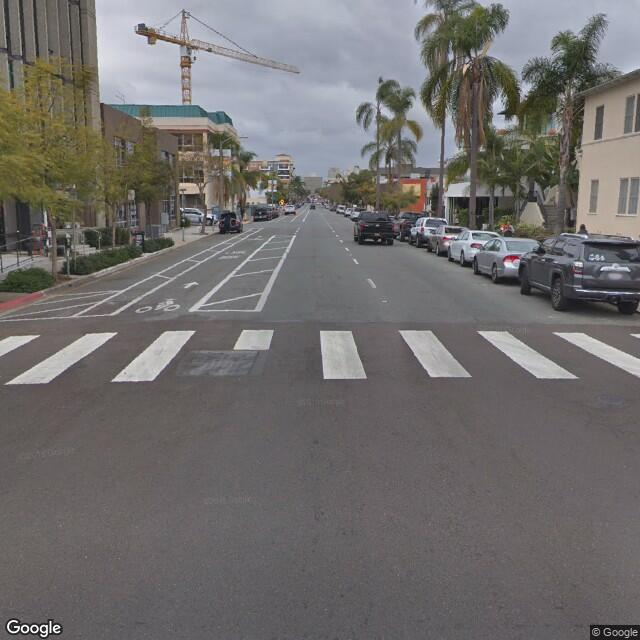road line: (144, 230, 294, 312), (351, 250, 398, 314)
window: (619, 172, 638, 220), (620, 99, 640, 141)
